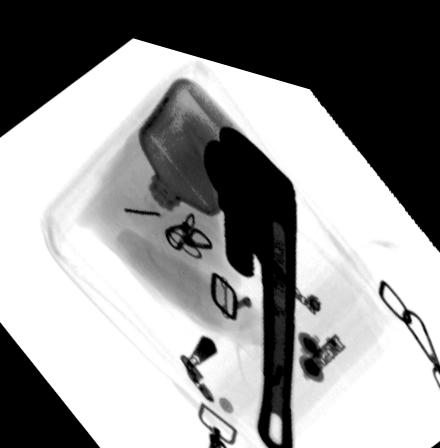Wrench: (200, 108, 298, 443)
